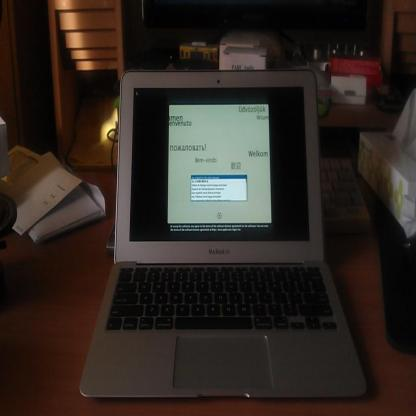board: (77, 68, 367, 393)
